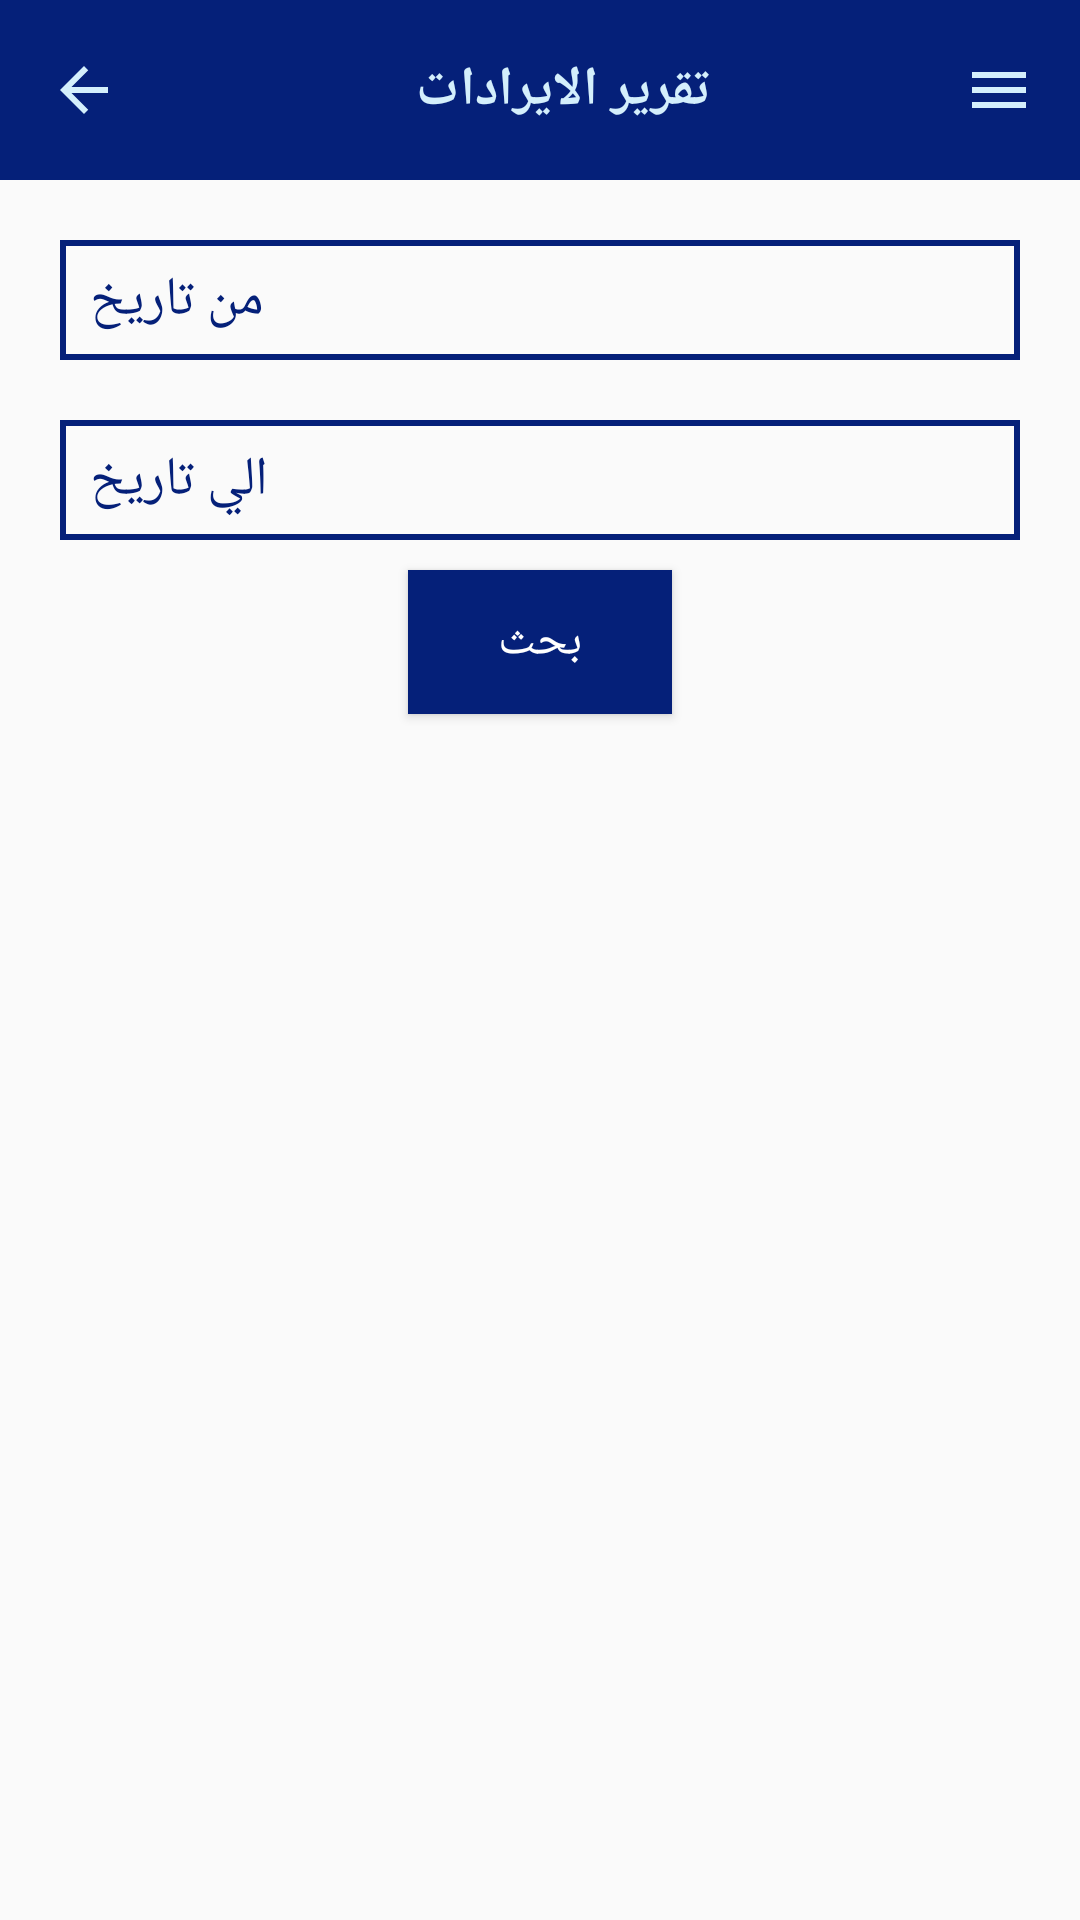

Locate icon controls on the screen. Image size 1080px×1920px, boxes as (left=x1, top=y1, right=x2, bottom=y2).
arrow back: (left=60, top=66, right=108, bottom=114)
menu: (left=972, top=72, right=1026, bottom=108)
